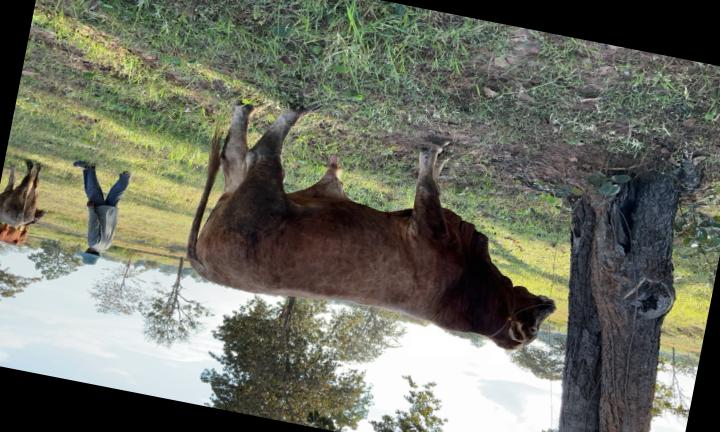Charolais: (187, 105, 555, 350)
